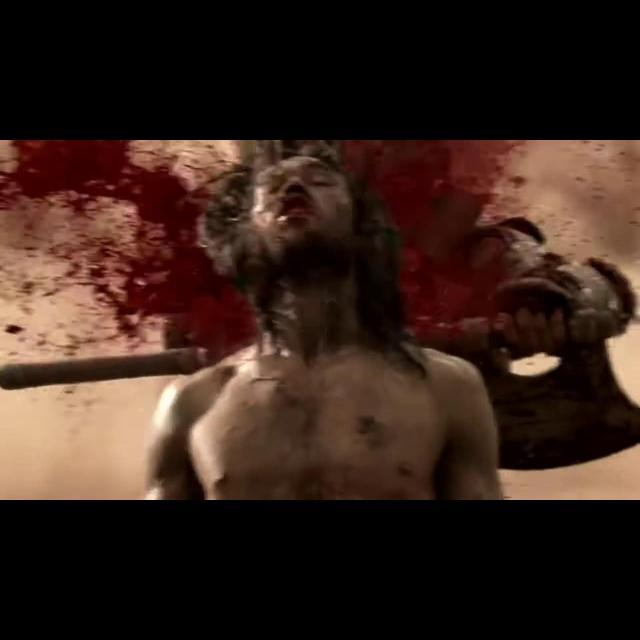blood: (342, 140, 640, 339), (0, 140, 254, 364)
